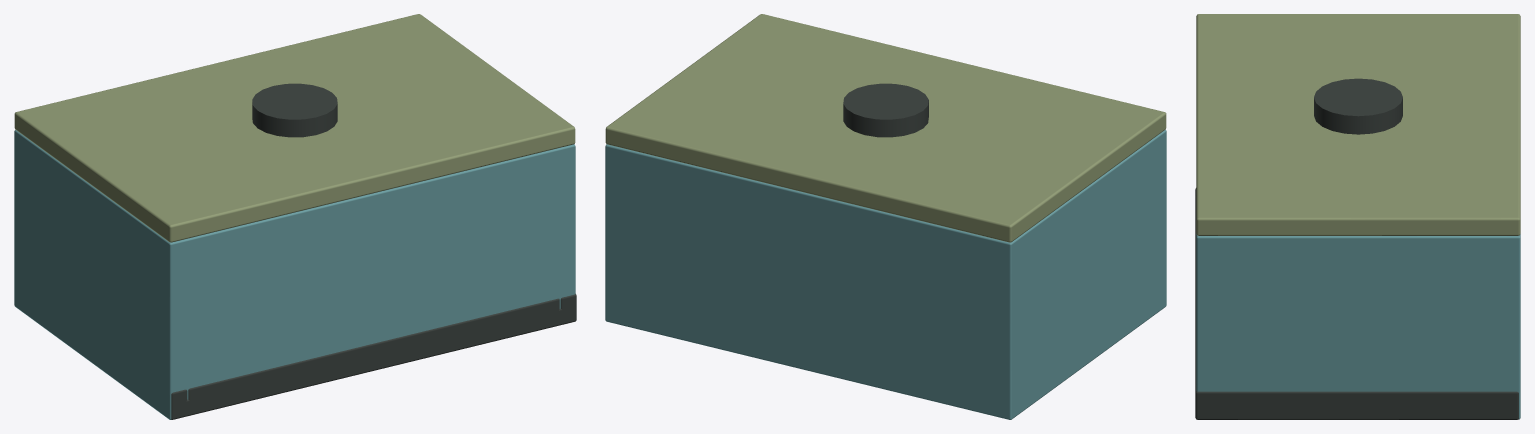
The model's file is survival-greenhouse-and-irrigation-germination-dome-15912ab8__21331.glb.
3 views of the same model, side by side, from view 1: azimuth 30°, elevation 25°; view 2: azimuth 150°, elevation 25°; view 3: azimuth 270°, elevation 25° (orthographic). The views are drawn at different scales.
Parts seen in each view (by area): view 1: germination-dome; view 2: germination-dome; view 3: germination-dome.
Boxes of the visible parts, box(x1,y1,x2,y2) form: germination-dome: box(14, 14, 576, 419); germination-dome: box(605, 14, 1166, 419); germination-dome: box(1195, 14, 1520, 419).
Size of the model in its own units: 0.6012 by 0.3 by 0.4012.
